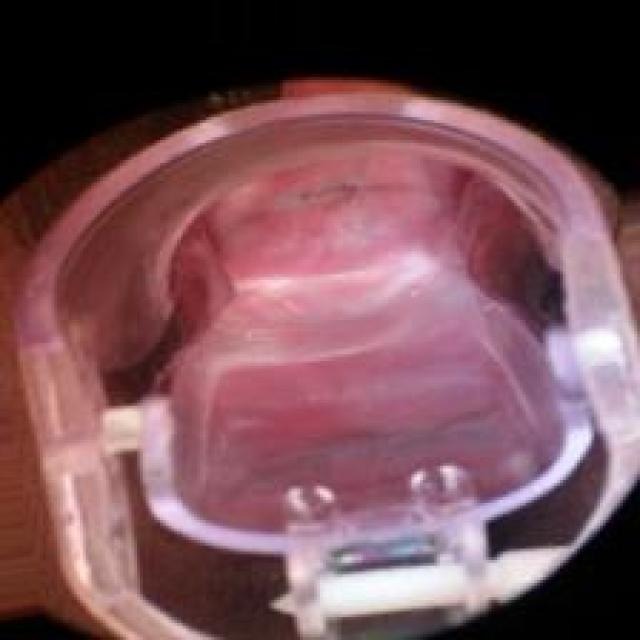type-3: (64, 132, 636, 604)
